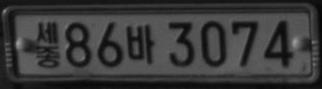0: (199, 20, 227, 68)
3: (169, 21, 196, 67)
4: (264, 19, 294, 68)
6: (96, 21, 123, 67)
7: (231, 19, 259, 66)
8: (65, 21, 92, 67)
바: (126, 24, 155, 65)
세종_V: (34, 20, 61, 68)
